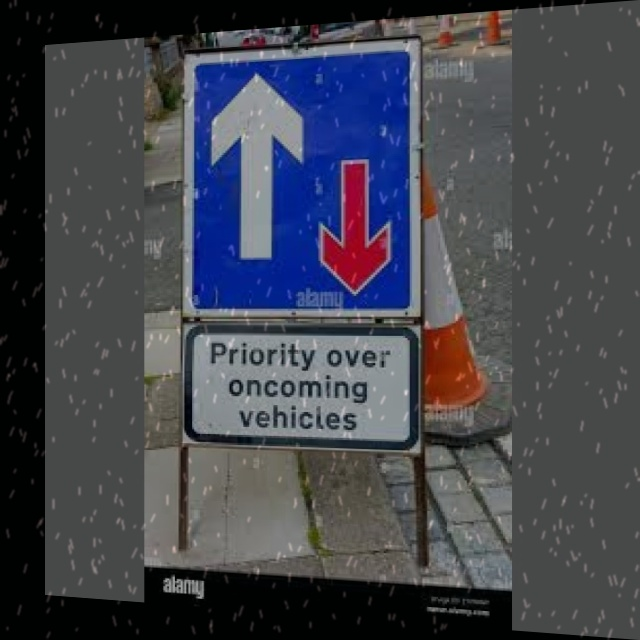Priority_for_Oncoming_Traffic: (194, 48, 412, 311)
